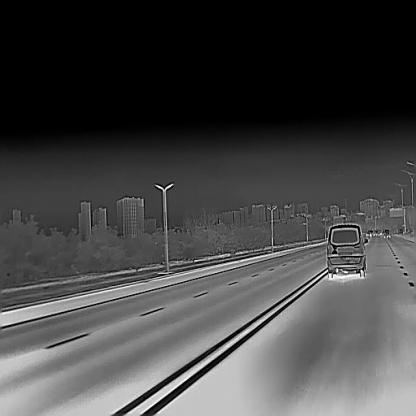car: (326, 222, 369, 278), (383, 228, 389, 238)
